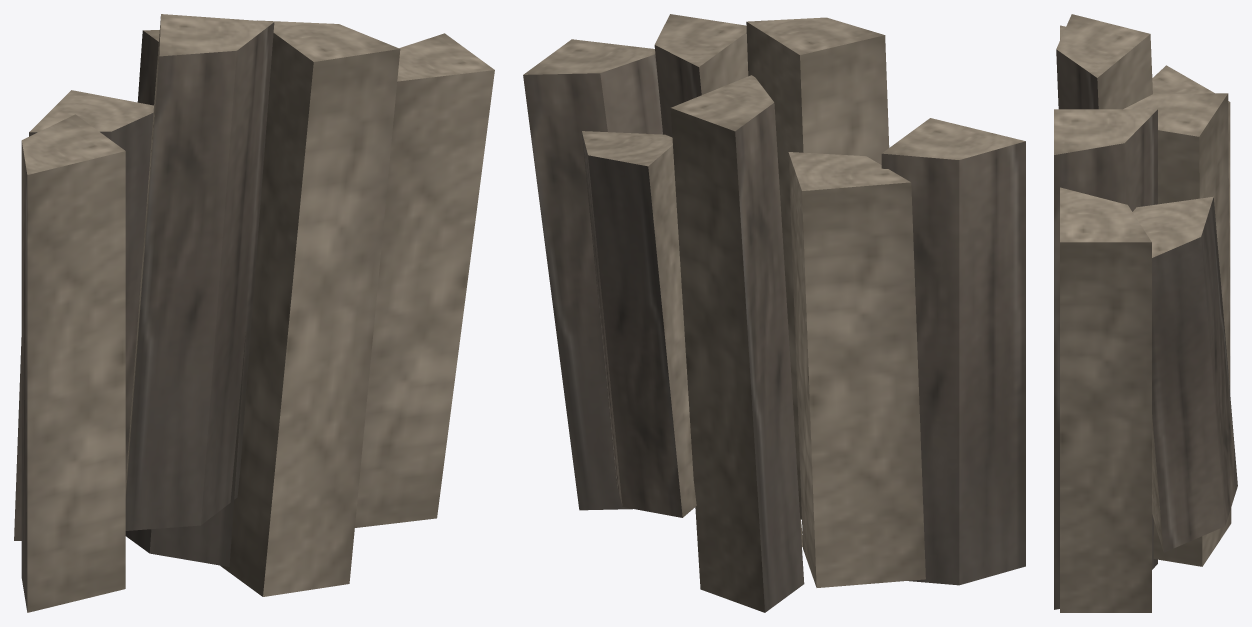
File: Wood_Stack_A.fbx
3 views of the same model, side by side, from view 1: azimuth 30°, elevation 25°; view 2: azimuth 150°, elevation 25°; view 3: azimuth 270°, elevation 25° (orthographic). The views are drawn at different scales.
Visible parts, largest first — view 1: Wood_Stack_A; view 2: Wood_Stack_A; view 3: Wood_Stack_A.
Part boxes in pixels (left/top/right/bottom): Wood_Stack_A: left=14, top=14, right=494, bottom=612; Wood_Stack_A: left=523, top=14, right=1025, bottom=612; Wood_Stack_A: left=1054, top=14, right=1237, bottom=612.
Bounding box in the file's own units: 1.08 × 1.24 × 0.4015.
